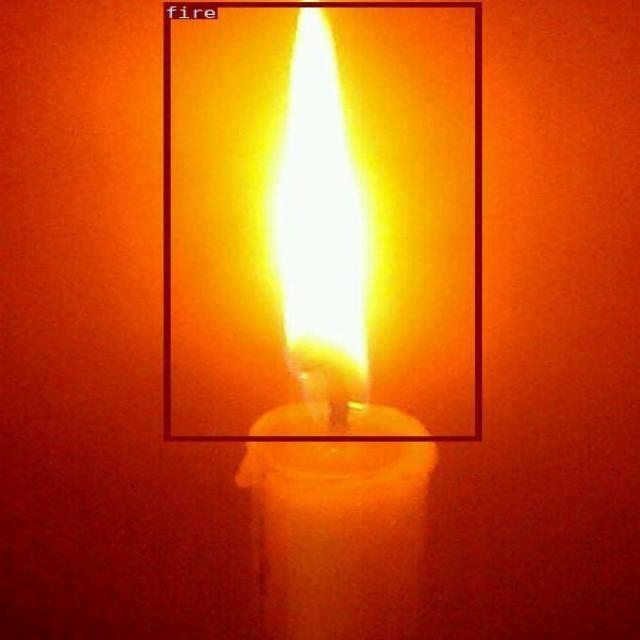fire: (164, 1, 480, 441)
